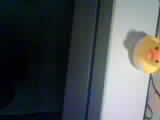duck: (128, 29, 155, 80)
